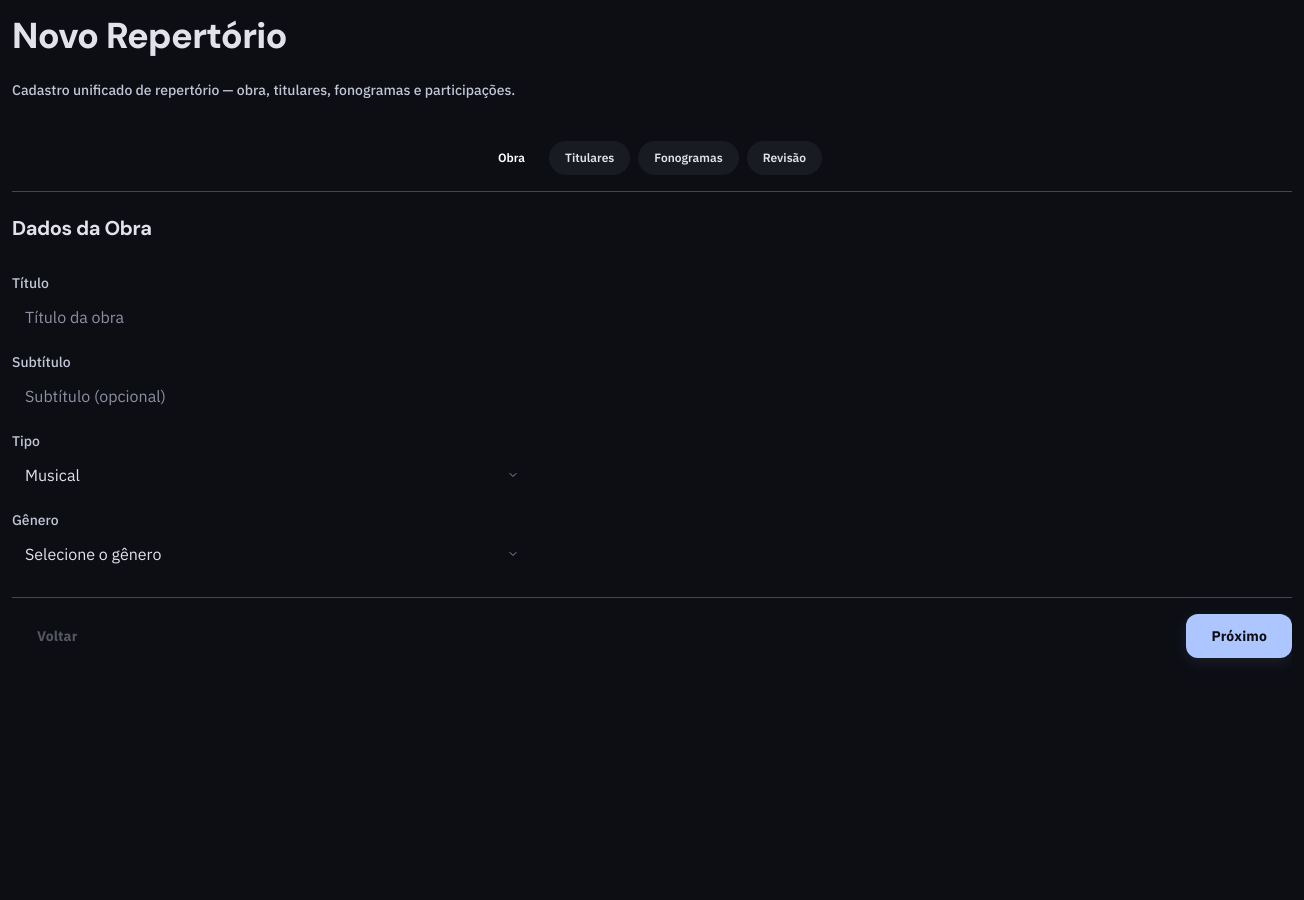
Scenario: CadastroRepertorioPage › can go back from step 2 to step 1
In the field labelled "Título": [272, 317] box [12,298,532,336], type "Minha Obra Teste"
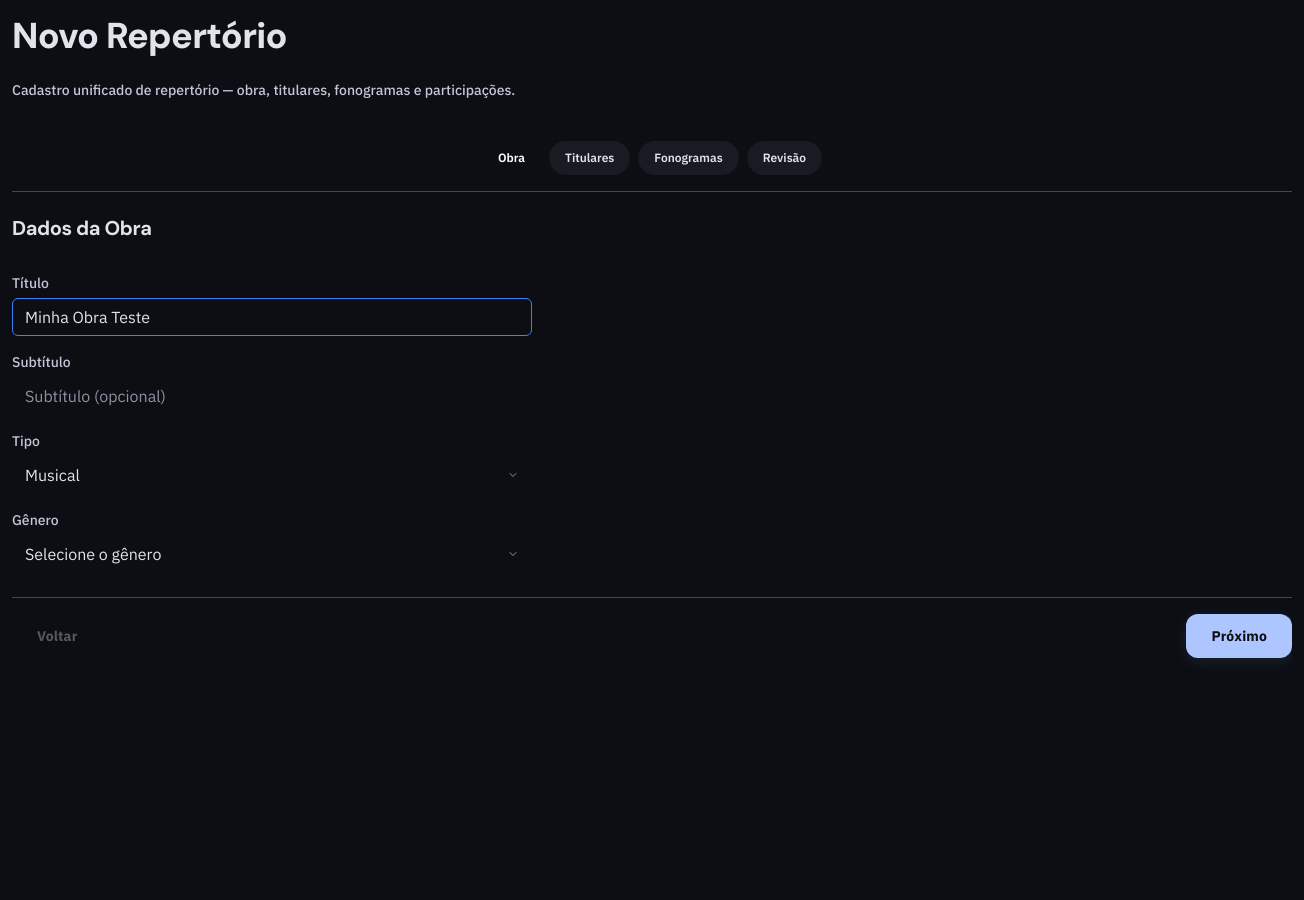
Select "Musical" in the dropdown labelled "Tipo": [272, 475] box [12,456,532,494]
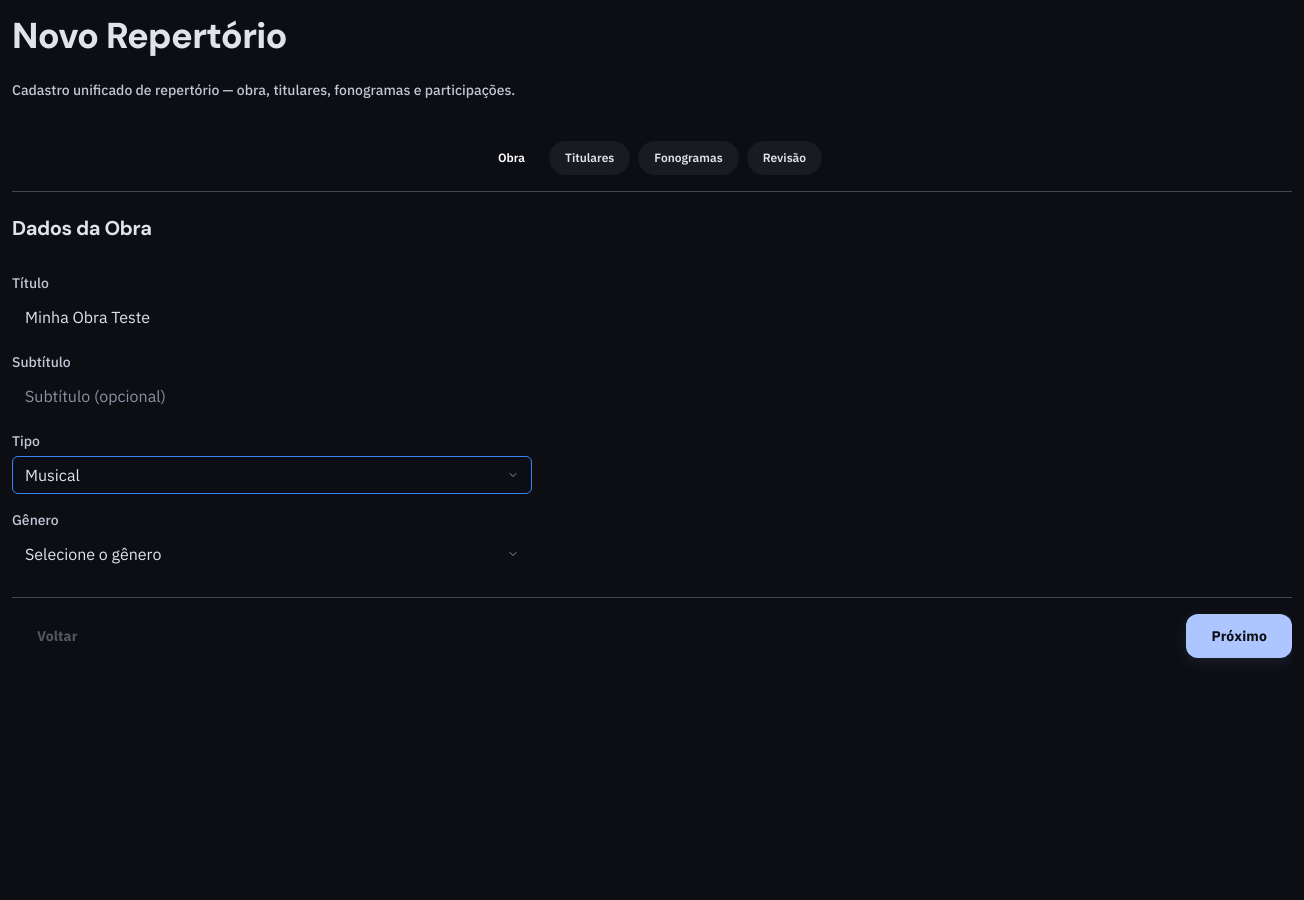
Click the button "Próximo": [1239, 636] box [1186,614,1292,658]
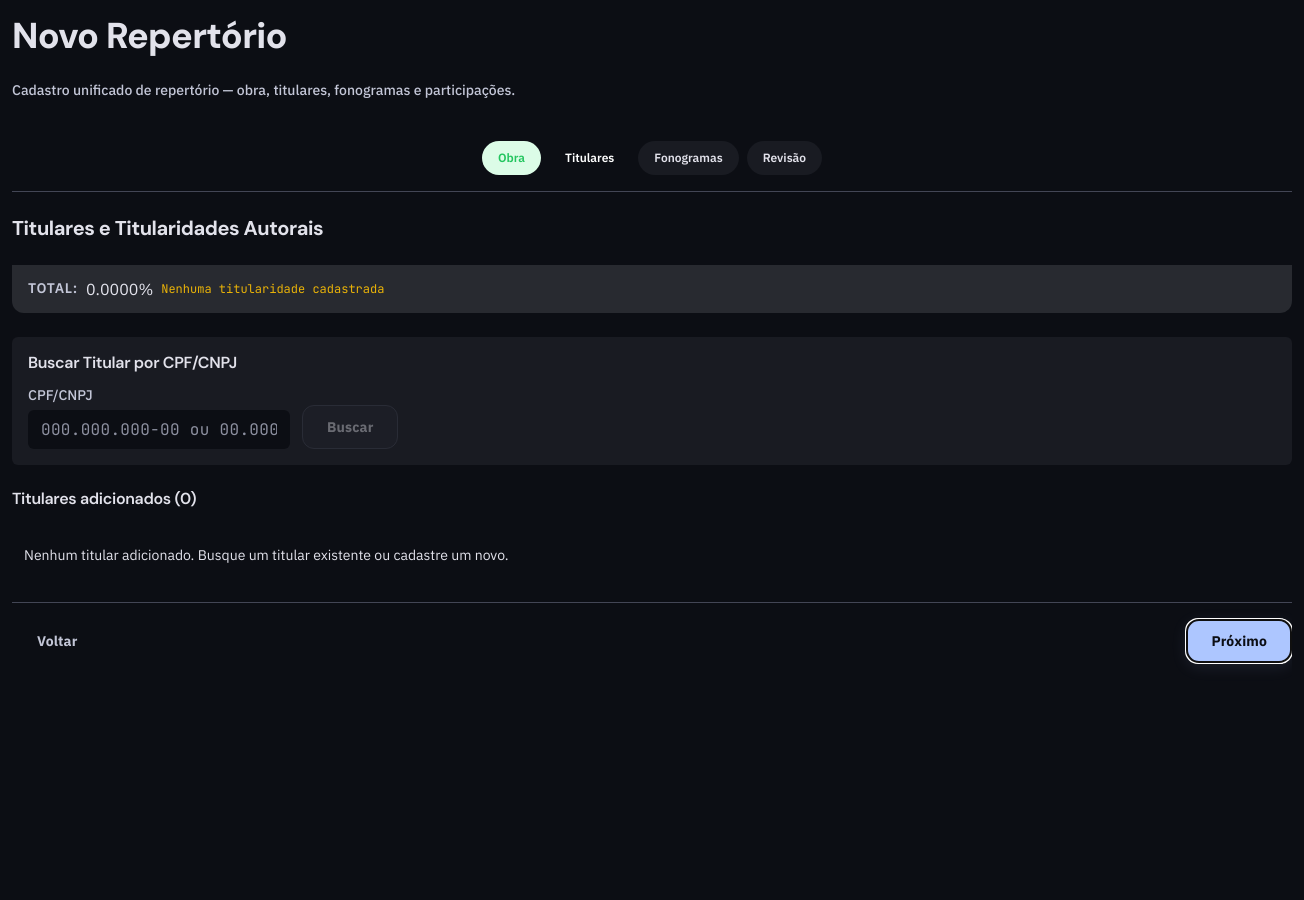
Expected: the heading "Titulares e Titularidades Autorais" is shown, [12,215,323,241]
Click the button "Voltar": [57, 641] box [12,619,102,663]
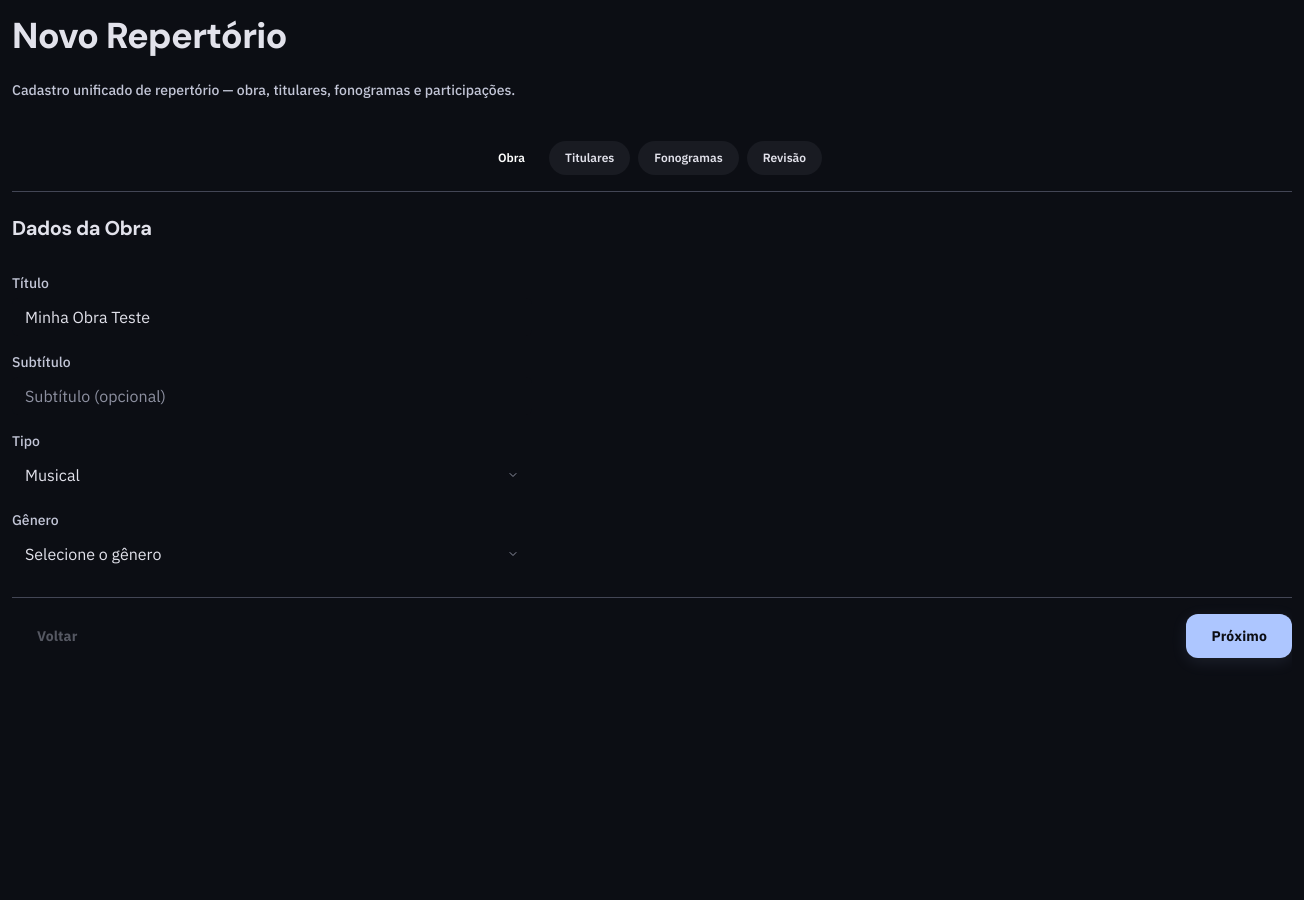
Expected: the heading "Dados da Obra" is shown, [12,215,152,241]
